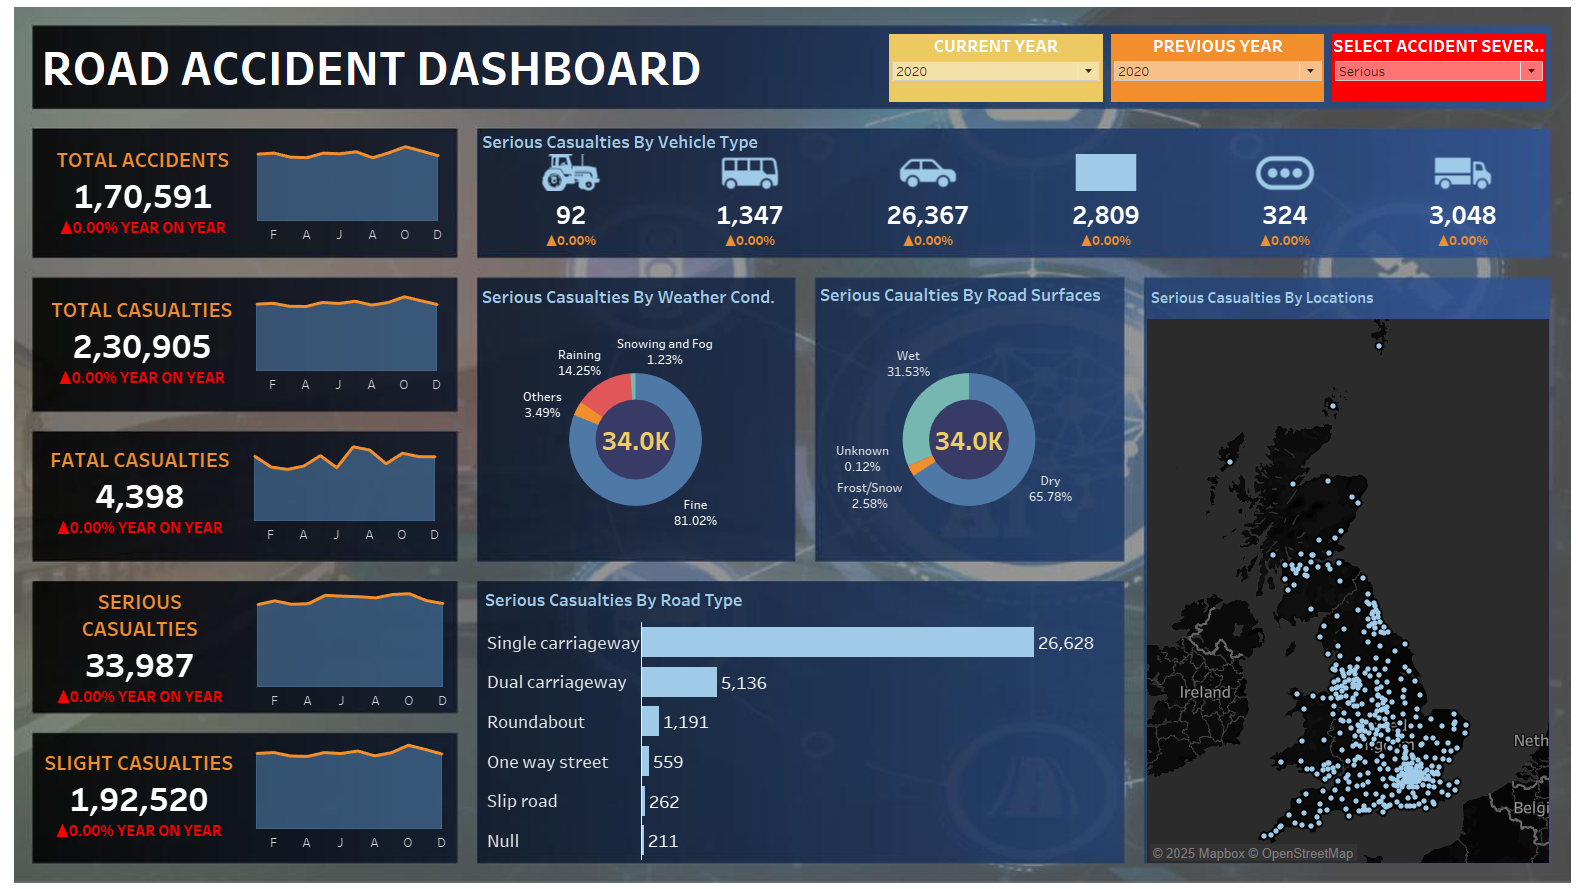

Layout of this report page (visuals, bound fields, positions):
{"tool":"tableau","page":{"name":"Dashboard 1","canvas":[1600,900],"ordinal":0},"visuals":[{"type":"image","param":"C:/Users/sanat/OneDrive/Desktop/CTTC/IMG-20250622-WA0001.jpg","box":[8,8,1584,884]},{"type":"text","box":[45,29,931,84]},{"type":"parameter","param":"[Parameters].[Parameter 1]","box":[892,35,221.7,76]},{"type":"parameter","param":"[Parameters].[CURRENT YEAR (copy)_877076051145949185]","box":[1113.7,35,221.7,76]},{"type":"parameter","param":"[Parameters].[Parameter 2]","box":[1335.3,35,221.7,76]},{"type":"text","box":[486,137,476,19]},{"type":"worksheet","title":"TOTAL ACCIDENTS","mark":"Automatic","box":[47,142,205,110]},{"type":"worksheet","title":"ACCIDENT SPARKLINE","mark":"Automatic","rows":["CURRENT YEAR ACCIDENTS (copy)_877076051161518083","Calculation_877076051159814146"],"cols":["Accident Date"],"box":[252,142,205,110]},{"type":"worksheet","title":"VEHICLE TYPE IMAGES","mark":"Shape","box":[489,159,1070,37]},{"type":"worksheet","title":"VEHICLE TYPE KPI","mark":"Automatic","box":[489,196,1070,63]},{"type":"worksheet","title":"ROAD SURFACES","mark":"Pie","rows":["Calculation_446982306166157313","Calculation_446982306166198275"],"box":[823,283,306,284]},{"type":"worksheet","title":"WEATHER CONDITIONS","mark":"Pie","rows":["Calculation_446982306166157313","Calculation_446982306166198275"],"box":[485,285,315,280]},{"type":"worksheet","title":"BY LOCATIONS","mark":"Automatic","rows":["Latitude"],"cols":["Longitude"],"box":[1154,288,402,580]},{"type":"worksheet","title":"TOTAL CASUALTIES","mark":"Automatic","box":[46,292,205,110]},{"type":"worksheet","title":"TOTAL CASUALTIES SPARKLINE ","mark":"Automatic","rows":["CURRENT YEAR CASUALTIES (copy)_877076051167870982","Calculation_877076051166650373"],"cols":["Accident Date"],"box":[251,292,205,110]},{"type":"worksheet","title":"FATAL  CASUALTIES ","mark":"Automatic","box":[44,442,205,110]},{"type":"worksheet","title":"FATAL CASUALTIES SPARKLINE ","mark":"Automatic","rows":["CURRENT YEAR FATAL CASUALTIES (copy)_877076051171008521","Calculation_877076051169697800"],"cols":["Accident Date"],"box":[249,442,205,110]},{"type":"worksheet","title":"SERIOUS  CASUALTIES ","mark":"Automatic","box":[42,588,210,130]},{"type":"worksheet","title":"SERIOUS CASUALTIES SPARKLINE ","mark":"Automatic","rows":["PREVIOUS YEAR FATAL CASUALTIES  (copy)_877076051172438029","CURRENT YEAR FATAL CASUALTIES (copy)_877076051172143116"],"cols":["Accident Date"],"box":[252,588,210,130]},{"type":"worksheet","title":"ROAD TYPE","mark":"Automatic","rows":["Road_Type"],"cols":["Calculation_877076051166650373"],"box":[488,588,638,277]},{"type":"worksheet","title":"SLIGHT CASUALITIES","mark":"Automatic","box":[41,740,210,120]},{"type":"worksheet","title":"SLIGHT CASUALTIES SPARKLINE ","mark":"Automatic","rows":["PREVIOUS YEAR SERIOUS CASUALTIES   (copy)_877076051173724176","CURRENT YEAR SERIOUS CASUALTIES  (copy)_877076051173548047"],"cols":["Accident Date"],"box":[251,740,210,120]}]}

Visuals, with their boxes in screenshot pixels (x1, y1, x2, y2), scaled from the page's 1600x900 canvas onto the 1580x889 screenshot:
image: bbox=(8, 8, 1572, 881)
text: bbox=(44, 29, 964, 112)
parameter: bbox=(881, 35, 1100, 110)
parameter: bbox=(1100, 35, 1319, 110)
parameter: bbox=(1319, 35, 1538, 110)
text: bbox=(480, 135, 950, 154)
"TOTAL ACCIDENTS" worksheet: bbox=(46, 140, 249, 249)
"ACCIDENT SPARKLINE" worksheet: bbox=(249, 140, 451, 249)
"VEHICLE TYPE IMAGES" worksheet (Shape marks): bbox=(483, 157, 1540, 194)
"VEHICLE TYPE KPI" worksheet: bbox=(483, 194, 1540, 256)
"ROAD SURFACES" worksheet (Pie marks): bbox=(813, 280, 1115, 560)
"WEATHER CONDITIONS" worksheet (Pie marks): bbox=(479, 282, 790, 558)
"BY LOCATIONS" worksheet: bbox=(1140, 284, 1537, 857)
"TOTAL CASUALTIES" worksheet: bbox=(45, 288, 248, 397)
"TOTAL CASUALTIES SPARKLINE " worksheet: bbox=(248, 288, 450, 397)
"FATAL  CASUALTIES " worksheet: bbox=(43, 437, 246, 545)
"FATAL CASUALTIES SPARKLINE " worksheet: bbox=(246, 437, 448, 545)
"SERIOUS  CASUALTIES " worksheet: bbox=(41, 581, 249, 709)
"SERIOUS CASUALTIES SPARKLINE " worksheet: bbox=(249, 581, 456, 709)
"ROAD TYPE" worksheet: bbox=(482, 581, 1112, 854)
"SLIGHT CASUALITIES" worksheet: bbox=(40, 731, 248, 849)
"SLIGHT CASUALTIES SPARKLINE " worksheet: bbox=(248, 731, 455, 849)
